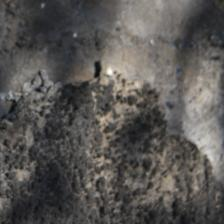Crack: (49, 77, 161, 140), (63, 26, 155, 86)
